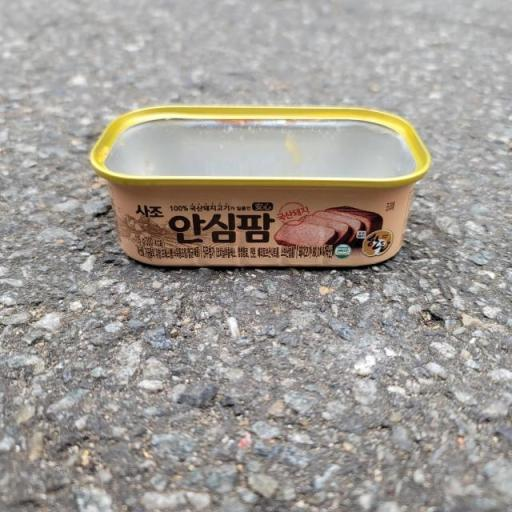metal: (27, 69, 491, 296)
